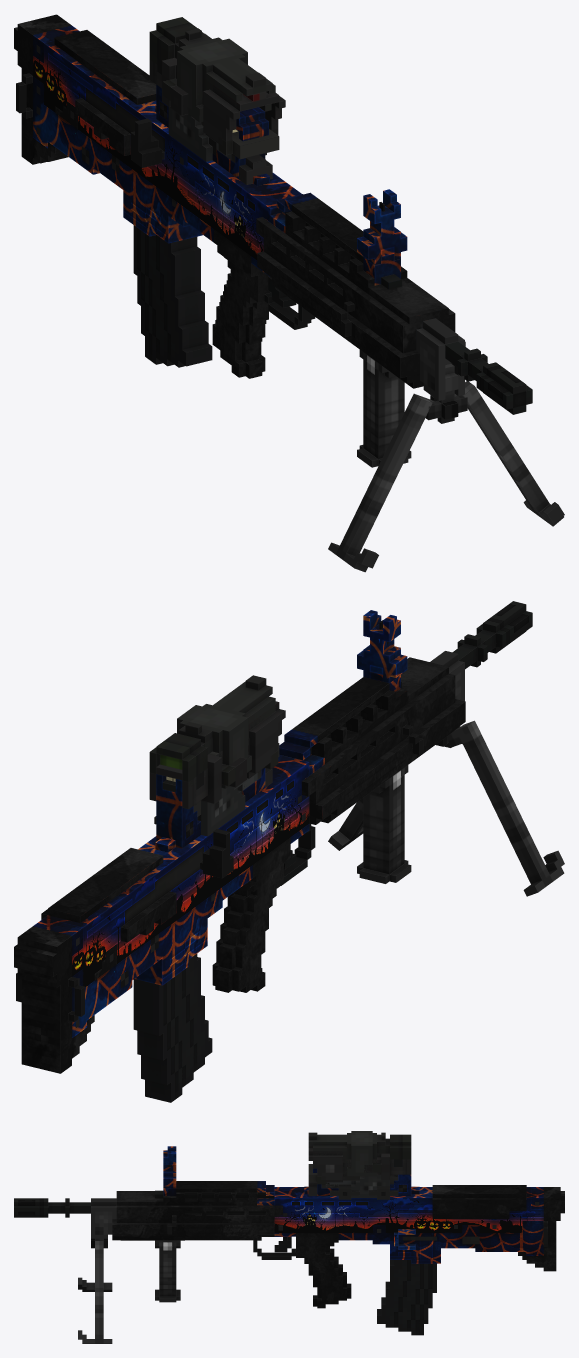
The model's file is RD_L85_SCARY.glb.
The picture shows the model from 3 angles, top to bottom: view 1: azimuth 30°, elevation 25°; view 2: azimuth 150°, elevation 25°; view 3: azimuth 270°, elevation 25°; orthographic projection. The views are drawn at different scales.
Visible parts, largest first — view 1: L85, L85_CLIP, SCOPE_SUSAT, DIPOD1_LEG1, L85_SCOPE1, SCOPE_ACOG, GRIP1, DIPOD1_LEG2, DIPOD1_BODY, SCOPE_EOTECH, DIPOD1_BODY2, L85_BOLT; view 2: L85, L85_CLIP, SCOPE_SUSAT, L85_SCOPE1, DIPOD1_LEG1, GRIP1, SCOPE_ACOG, SCOPE_EOTECH, L85_BOLT, DIPOD1_LEG2, DIPOD1_BODY; view 3: L85, SCOPE_SUSAT, L85_CLIP, SCOPE_ACOG, GRIP1, L85_SCOPE1, DIPOD1_LEG2, DIPOD1_BODY, SCOPE_EOTECH, DIPOD1_LEG1.
Part boxes in pixels (bbox=[...]): L85: bbox=[14, 14, 532, 414]; L85_CLIP: bbox=[133, 225, 212, 367]; SCOPE_SUSAT: bbox=[149, 17, 279, 162]; DIPOD1_LEG1: bbox=[328, 393, 434, 572]; L85_SCOPE1: bbox=[156, 58, 407, 264]; SCOPE_ACOG: bbox=[149, 57, 285, 184]; GRIP1: bbox=[357, 350, 411, 467]; DIPOD1_LEG2: bbox=[454, 381, 564, 526]; DIPOD1_BODY: bbox=[416, 318, 464, 400]; SCOPE_EOTECH: bbox=[168, 107, 231, 161]; DIPOD1_BODY2: bbox=[425, 364, 467, 423]; L85_BOLT: bbox=[131, 118, 164, 167]; L85: bbox=[14, 601, 532, 1073]; L85_CLIP: bbox=[133, 954, 212, 1102]; SCOPE_SUSAT: bbox=[149, 675, 279, 824]; L85_SCOPE1: bbox=[156, 610, 407, 848]; DIPOD1_LEG1: bbox=[447, 720, 564, 896]; GRIP1: bbox=[357, 765, 411, 883]; SCOPE_ACOG: bbox=[149, 701, 285, 809]; SCOPE_EOTECH: bbox=[197, 773, 257, 836]; L85_BOLT: bbox=[200, 829, 233, 878]; DIPOD1_LEG2: bbox=[328, 798, 363, 850]; DIPOD1_BODY: bbox=[430, 651, 464, 700]; L85: bbox=[14, 1181, 564, 1308]; SCOPE_SUSAT: bbox=[308, 1131, 411, 1199]; L85_CLIP: bbox=[377, 1260, 436, 1335]; SCOPE_ACOG: bbox=[308, 1145, 411, 1195]; GRIP1: bbox=[121, 1240, 184, 1302]; L85_SCOPE1: bbox=[163, 1146, 411, 1195]; DIPOD1_LEG2: bbox=[78, 1241, 112, 1343]; DIPOD1_BODY: bbox=[91, 1198, 116, 1238]; SCOPE_EOTECH: bbox=[325, 1174, 389, 1197]; DIPOD1_LEG1: bbox=[78, 1277, 112, 1291].
Bounding box in the file's own units: 0.3168 × 0.5019 × 1.27.
8 materials, 8 textured.
